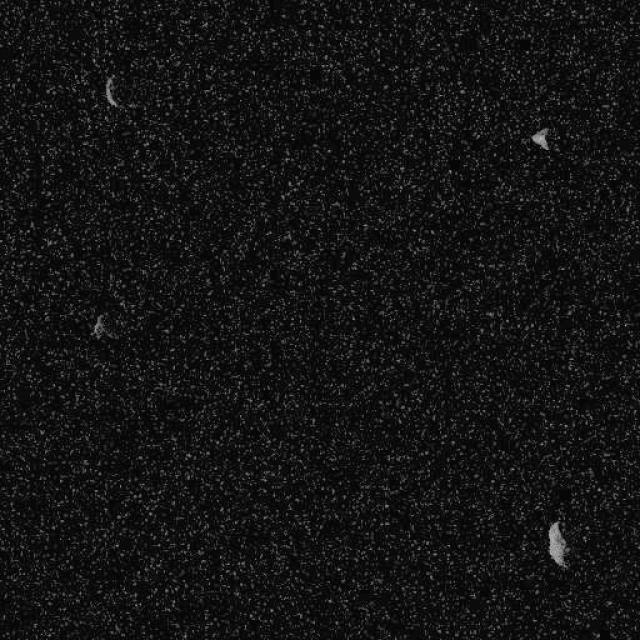D2: (546, 520, 569, 569), (104, 74, 120, 108), (530, 126, 550, 150), (90, 312, 106, 340)
